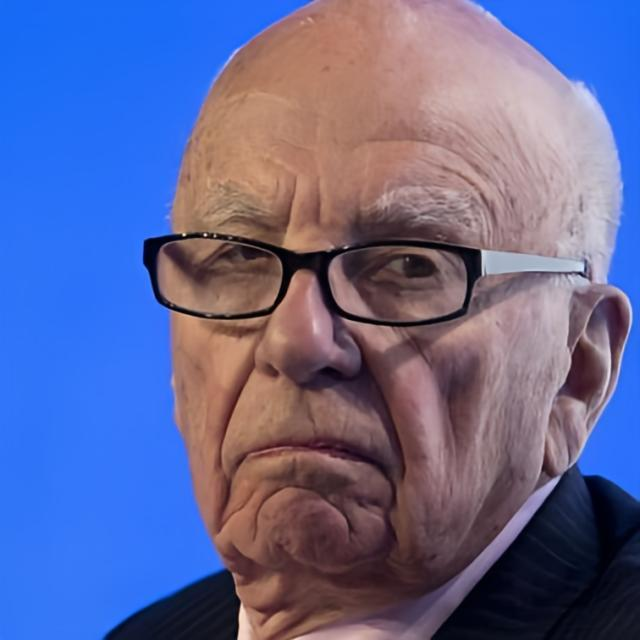disgust: (167, 11, 546, 578)
